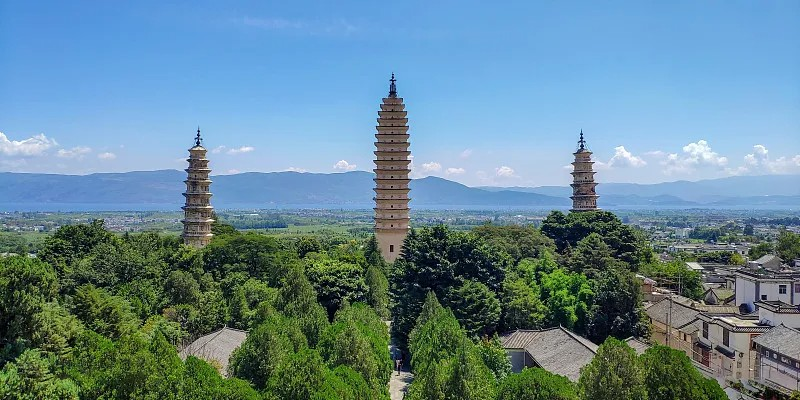ThreePagoda: (371, 71, 412, 265)
